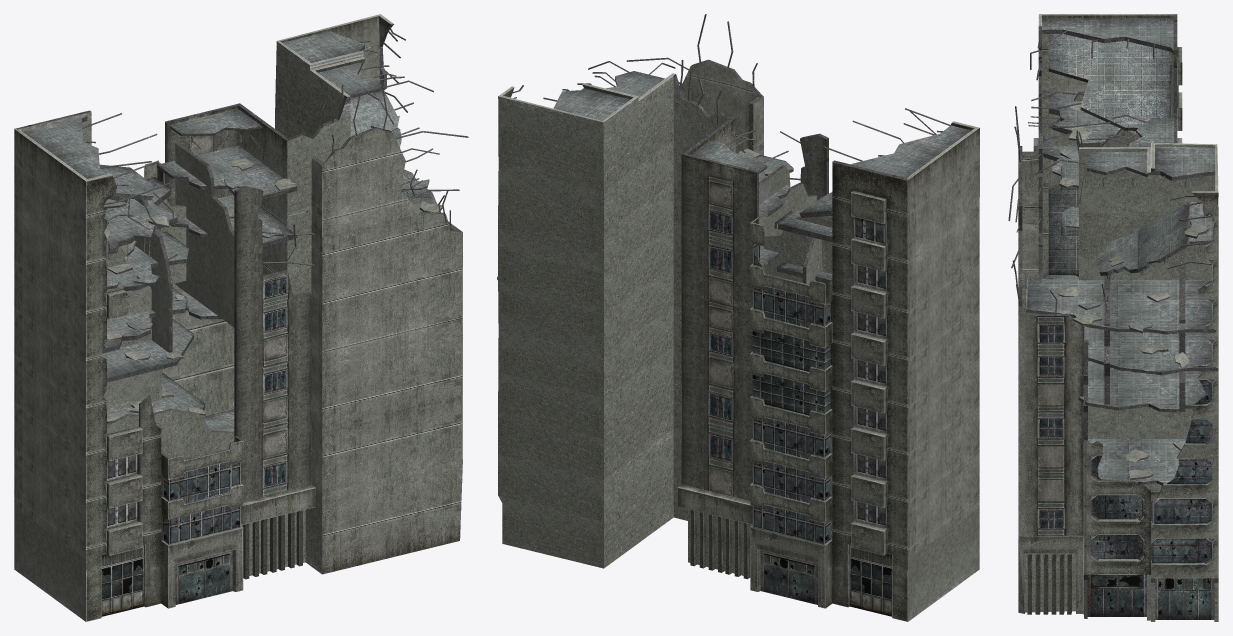
The model's file is buildings_07_ruin.FBX.
The picture shows the model from 3 angles, left to right: view 1: azimuth 30°, elevation 25°; view 2: azimuth 150°, elevation 25°; view 3: azimuth 270°, elevation 25°; orthographic projection. The views are drawn at different scales.
Parts seen in each view (by area): view 1: Object037; view 2: Object037; view 3: Object037.
Boxes of the visible parts, <box> form: Object037: <box>14,14,468,621</box>; Object037: <box>497,14,979,621</box>; Object037: <box>1008,14,1218,621</box>.
Bounding box in the file's own units: 2643 × 1249 × 3024.
1 material, 1 textured.
